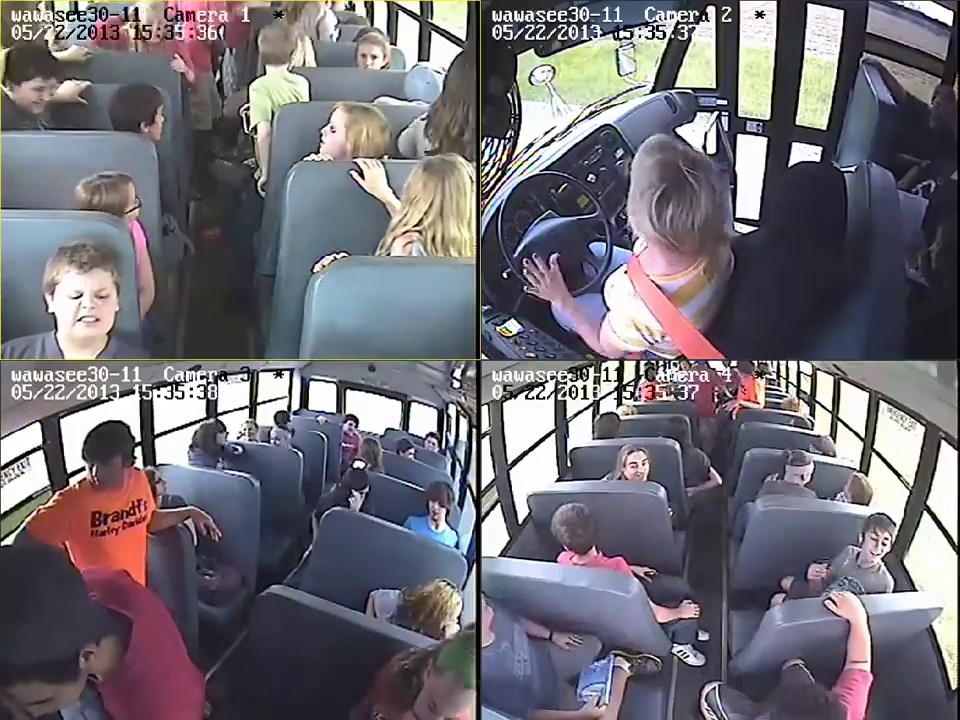face: (55, 279, 117, 337), (318, 119, 353, 158), (23, 72, 52, 113), (85, 459, 117, 489), (866, 528, 889, 558), (625, 455, 649, 480), (359, 45, 382, 70), (269, 432, 284, 446), (242, 424, 255, 439), (425, 437, 439, 450), (346, 422, 356, 436)
